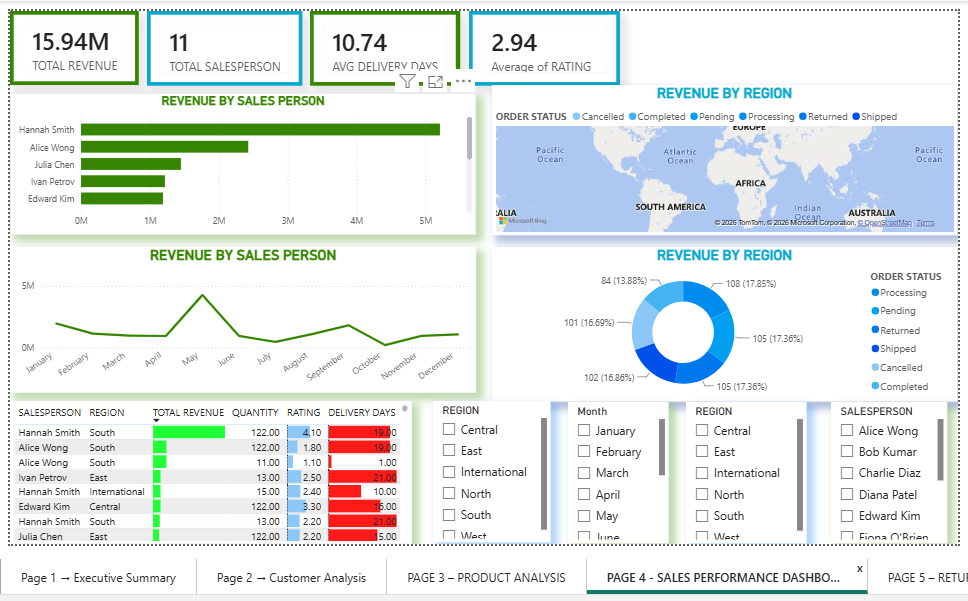

Layout of this report page (visuals, bound fields, positions):
{"tool":"powerbi","page":{"name":"PAGE 4 - SALES PERFORMANCE DASHBOARD","canvas":[1280,720],"ordinal":3},"visuals":[{"type":"cardVisual","fields":{"Data":["Sum(Fresh Sales Data.TOTAL REVENUE)"]},"box":[0,0,174.3,100],"z":0},{"type":"cardVisual","fields":{"Data":["Avg(Fresh Sales Data.RATING)"]},"box":[620,0,204.3,101.4],"z":1000},{"type":"cardVisual","fields":{"Data":["Avg(Fresh Sales Data.DELIVERY DAYS)"]},"box":[405.7,0,202.9,101.4],"z":2000},{"type":"cardVisual","fields":{"Data":["Count(Fresh Sales Data.SALESPERSON)"]},"box":[185.7,0,210,101.4],"z":3000},{"type":"clusteredBarChart","title":"REVENUE BY SALES PERSON","fields":{"Category":["Fresh Sales Data.SALESPERSON"],"Y":["Sum(Fresh Sales Data.TOTAL REVENUE)"]},"box":[0,111.4,630,191.4],"z":4000},{"type":"filledMap","title":" REVENUE BY REGION","fields":{"Category":["Fresh Sales Data.REGION"],"Series":["Fresh Sales Data.ORDER STATUS"]},"box":[651.4,100,628.6,202.9],"z":5000},{"type":"lineChart","title":"REVENUE BY SALES PERSON","fields":{"Category":["Fresh Sales Data.PURCHASE DATE.Variation.Date Hierarchy.Month"],"Y":["Sum(Fresh Sales Data.TOTAL REVENUE)"]},"box":[0,318.6,630,197.1],"z":6000},{"type":"donutChart","title":" REVENUE BY REGION","fields":{"Category":["Fresh Sales Data.ORDER STATUS"],"Y":["CountNonNull(Fresh Sales Data.CUSTOMER ID)"]},"box":[651.4,318.6,628.6,208.6],"z":7000},{"type":"tableEx","title":"REVENUE BY SALES PERSON","fields":{"Values":["Fresh Sales Data.SALESPERSON","Fresh Sales Data.REGION","Fresh Sales Data.TOTAL REVENUE","Fresh Sales Data.QUANTITY","Fresh Sales Data.RATING","Fresh Sales Data.DELIVERY DAYS"]},"box":[0,527.1,542.9,192.9],"z":8000},{"type":"slicer","fields":{"Values":["Fresh Sales Data.REGION"]},"box":[912.9,528.6,162.9,191.4],"z":9000},{"type":"slicer","fields":{"Values":["Fresh Sales Data.REGION"]},"box":[571.4,527.1,158.6,191.4],"z":10000},{"type":"slicer","fields":{"Values":["Fresh Sales Data.PURCHASE DATE.Variation.Date Hierarchy.Month"]},"box":[754.3,528.6,135.7,191.4],"z":11000},{"type":"slicer","fields":{"Values":["Fresh Sales Data.SALESPERSON"]},"box":[1110,528.6,157.1,191.4],"z":12000}]}

Visuals, with their boxes on the page's 1280x720 design canvas (x1, y1, x2, y2). These are canvas units, not pixel positions in the 968x601 screenshot, which may show the page scaled, cropped or inside an application window:
cardVisual - Sum(Fresh Sales Data.TOTAL REVENUE): box=[0, 0, 174, 100]
cardVisual - Avg(Fresh Sales Data.RATING): box=[620, 0, 824, 101]
cardVisual - Avg(Fresh Sales Data.DELIVERY DAYS): box=[406, 0, 609, 101]
cardVisual - Count(Fresh Sales Data.SALESPERSON): box=[186, 0, 396, 101]
"REVENUE BY SALES PERSON" clusteredBarChart: box=[0, 111, 630, 303]
" REVENUE BY REGION" filledMap: box=[651, 100, 1280, 303]
"REVENUE BY SALES PERSON" lineChart: box=[0, 319, 630, 516]
" REVENUE BY REGION" donutChart: box=[651, 319, 1280, 527]
"REVENUE BY SALES PERSON" tableEx: box=[0, 527, 543, 720]
slicer - Fresh Sales Data.REGION: box=[913, 529, 1076, 720]
slicer - Fresh Sales Data.REGION: box=[571, 527, 730, 718]
slicer - Fresh Sales Data.PURCHASE DATE.Variation.Date Hierarchy.Month: box=[754, 529, 890, 720]
slicer - Fresh Sales Data.SALESPERSON: box=[1110, 529, 1267, 720]
